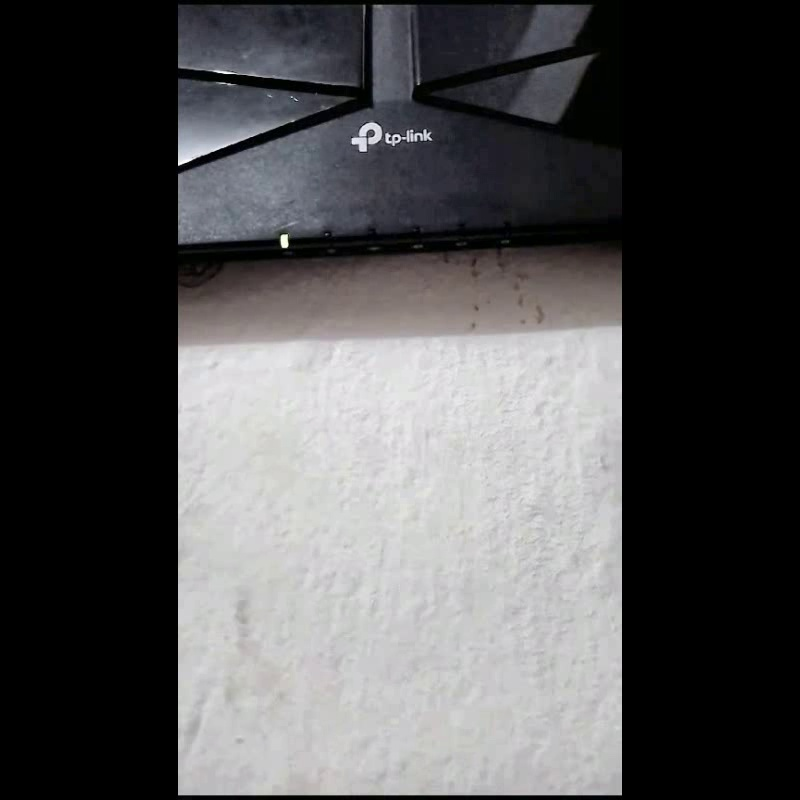off: (411, 223, 422, 242), (455, 221, 466, 240), (366, 225, 377, 243), (501, 221, 511, 239), (321, 229, 331, 245)
on_green: (279, 233, 289, 248)
